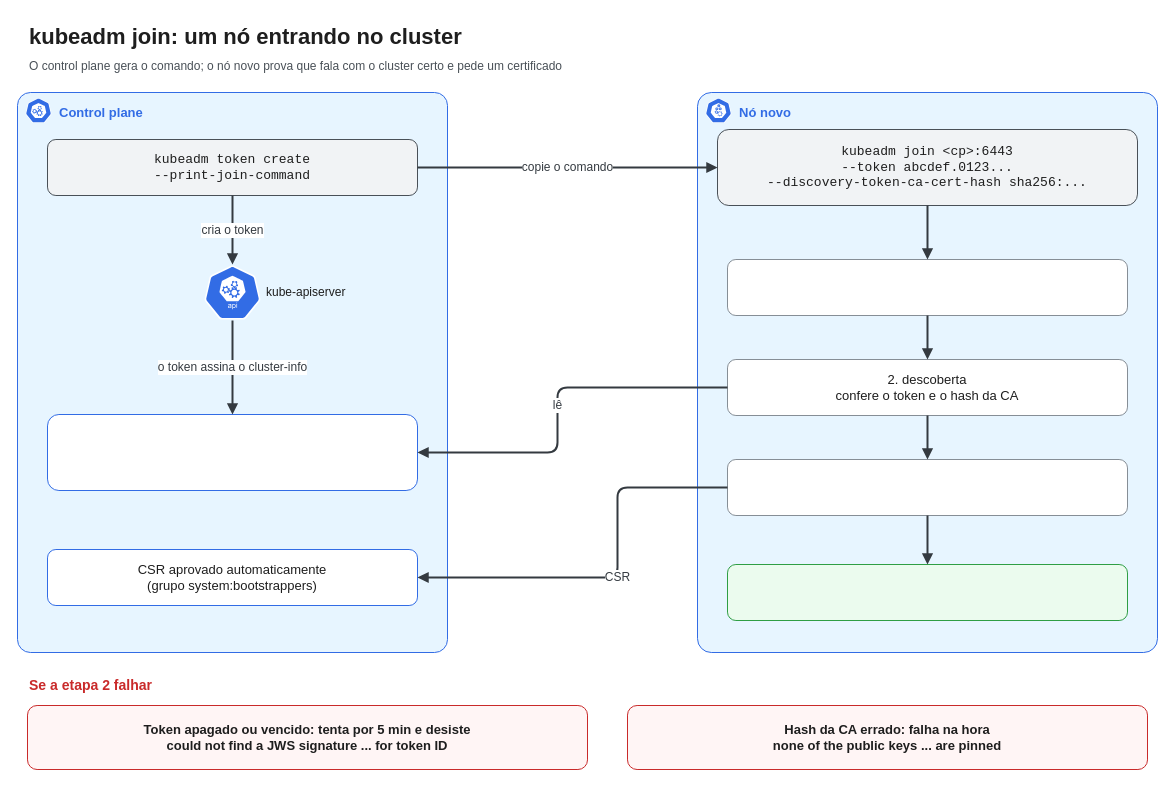
Some shapes in this 1175 by 787 pixel diagram are drawn without their labels. Here are the shapes that lost their labels. From the top down, the centre of each, then its label:
At [927,287]: "1. preflight portas, arquivos, kubelet, swap".
At [232,452]: "ConfigMap cluster-info (kube-public) CA do cluster + assinatura do token".
At [927,487]: "3. TLS bootstrap o kubelet envia um CSR".
At [927,592]: "kubelet.conf gravado → nó Ready".
